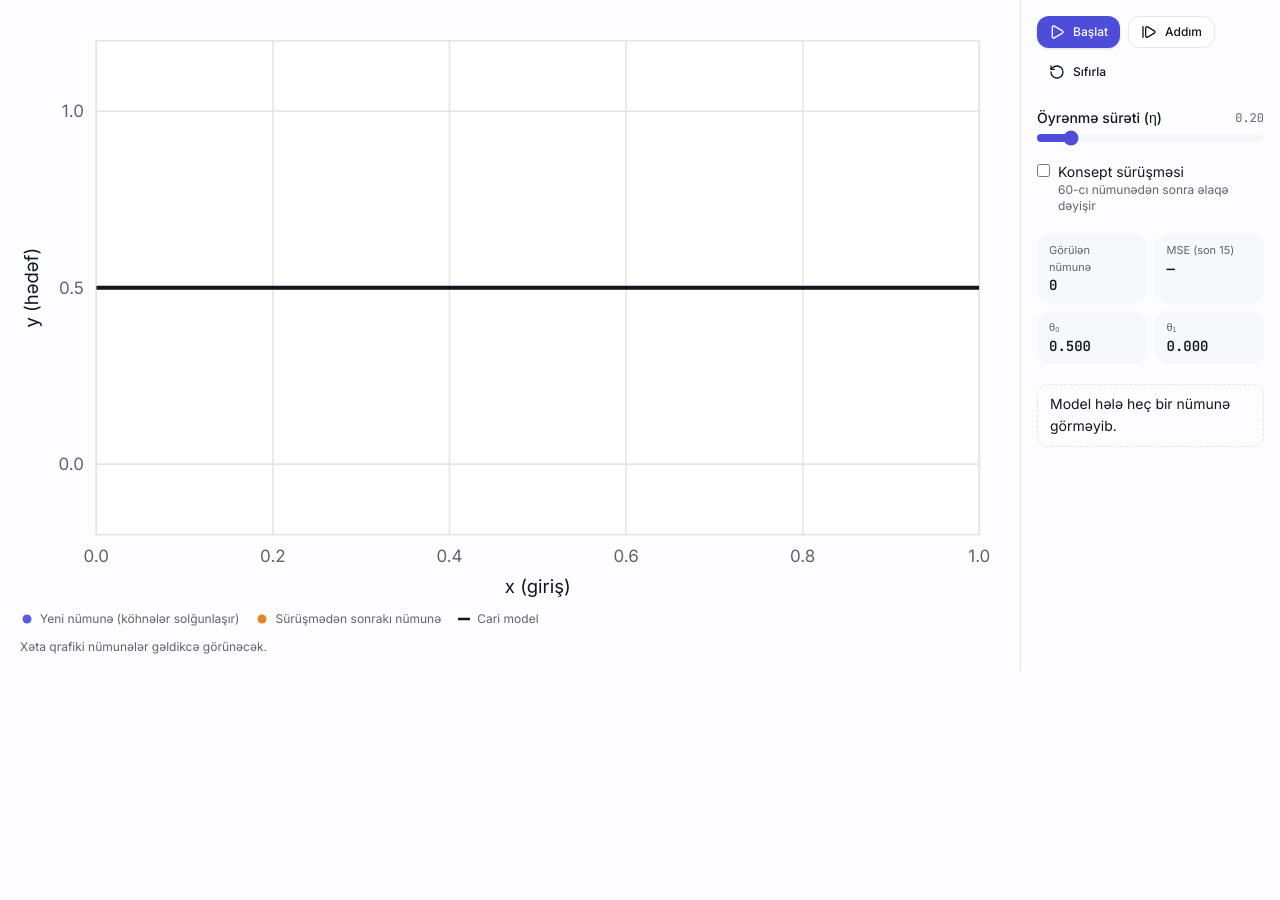
interactive demos (smoke) › online-learning: steps update the sample counter
The width and height of the screenshot is (1280, 900).
Click the button "Addım". click: (1172, 32)
box: x1=1128 y1=16 x2=1215 y2=48
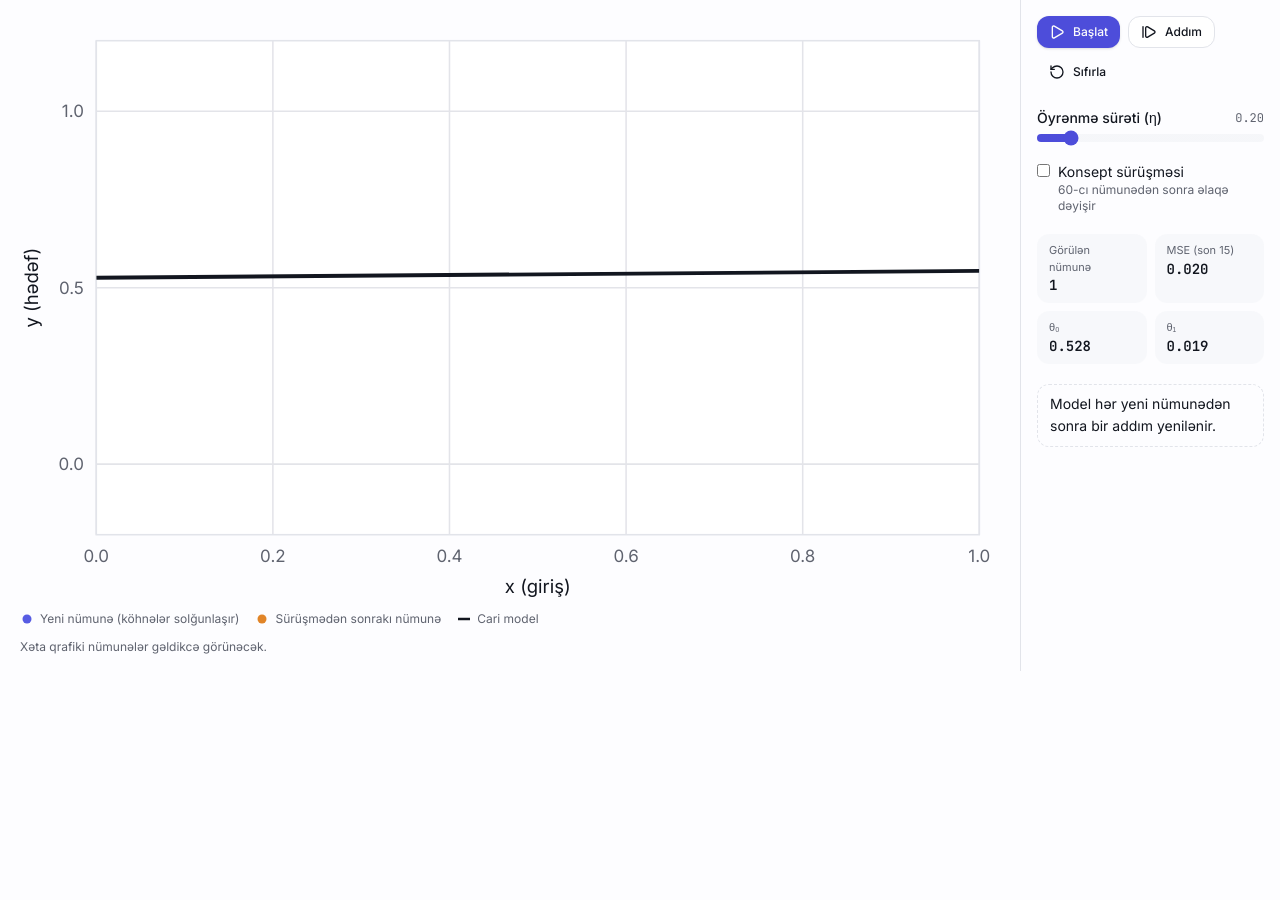
Click the button "Addım". click: (1172, 32)
box: x1=1128 y1=16 x2=1215 y2=48
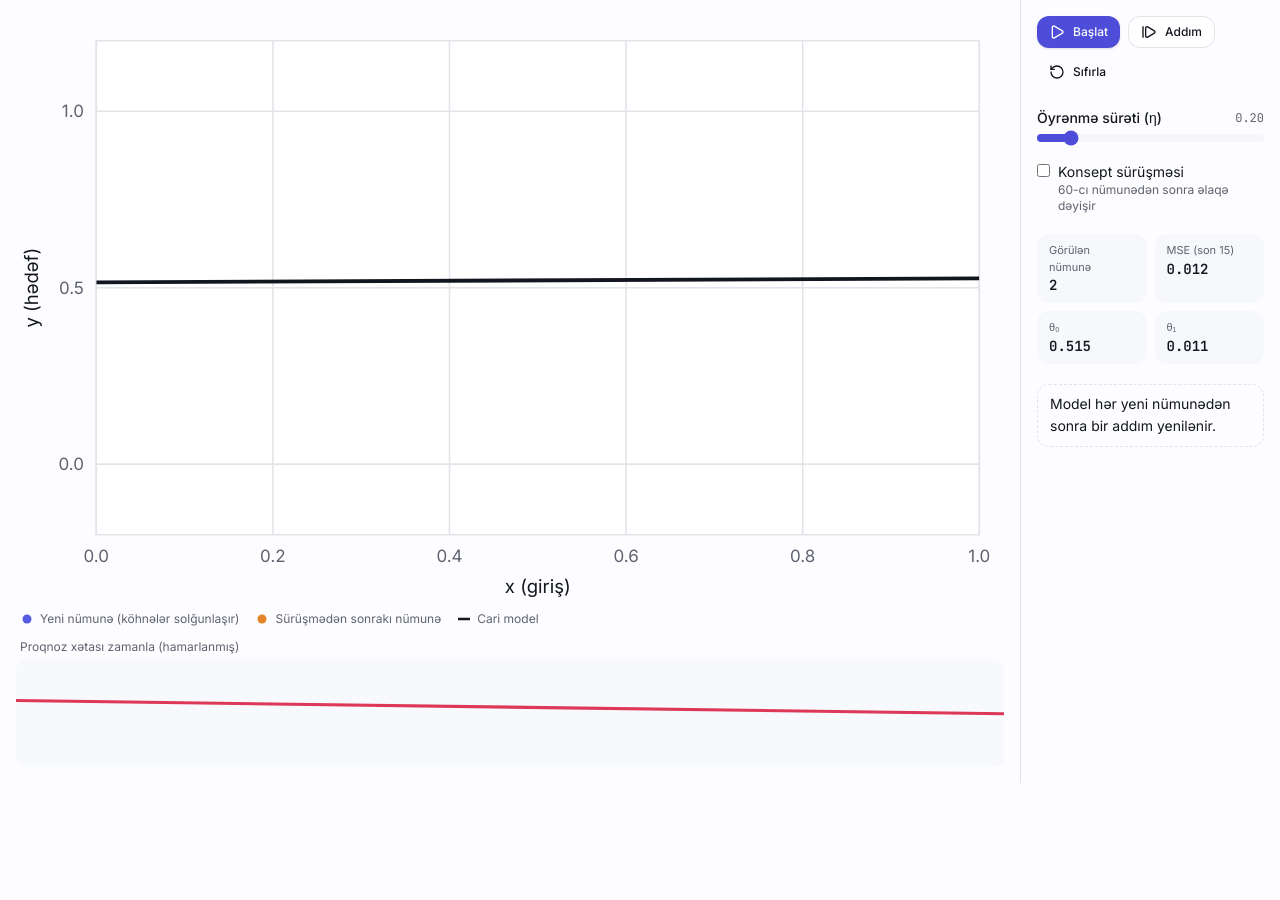
Click the button "Addım". click: (1172, 32)
box: x1=1128 y1=16 x2=1215 y2=48
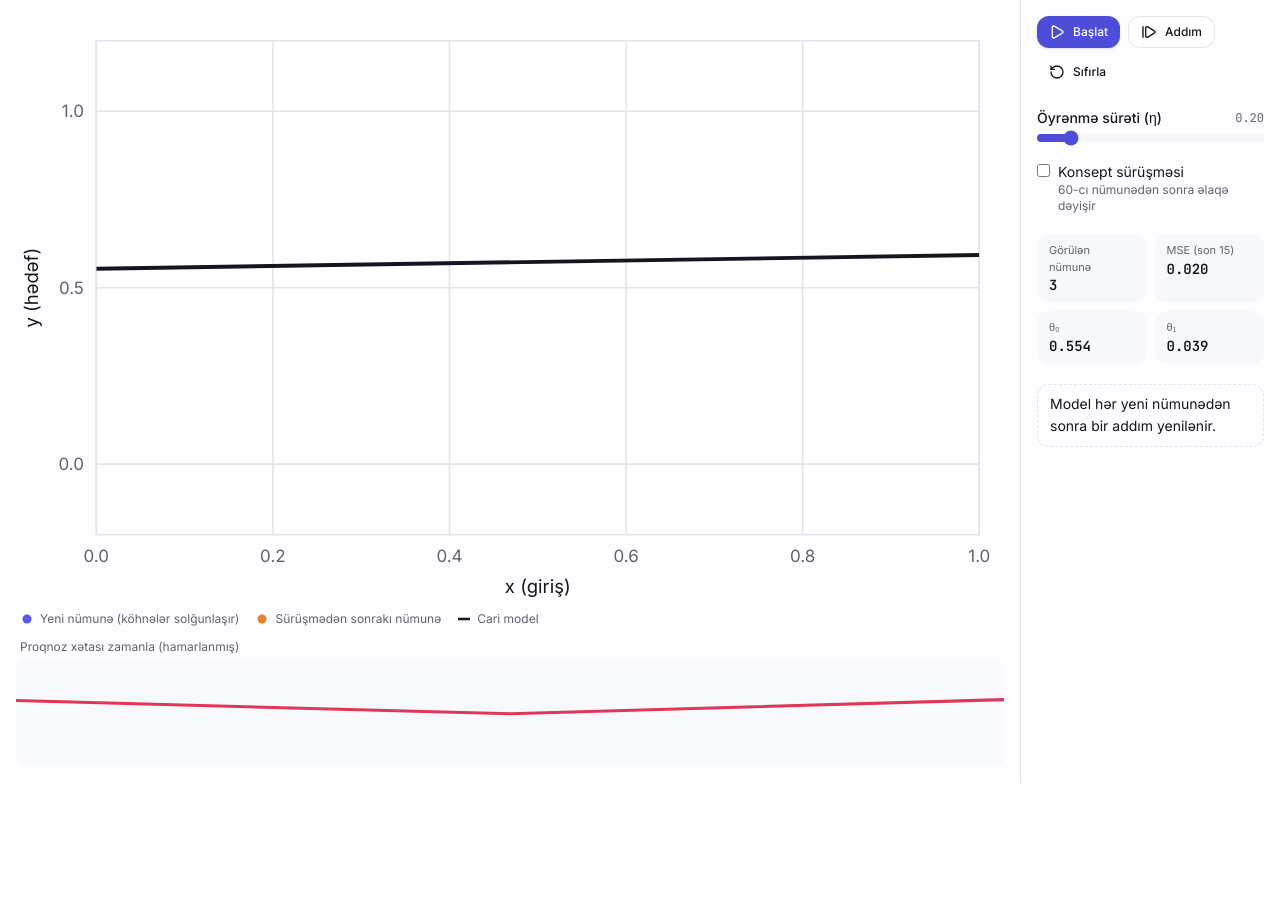
Click the button "Addım". click: (1172, 32)
box: x1=1128 y1=16 x2=1215 y2=48
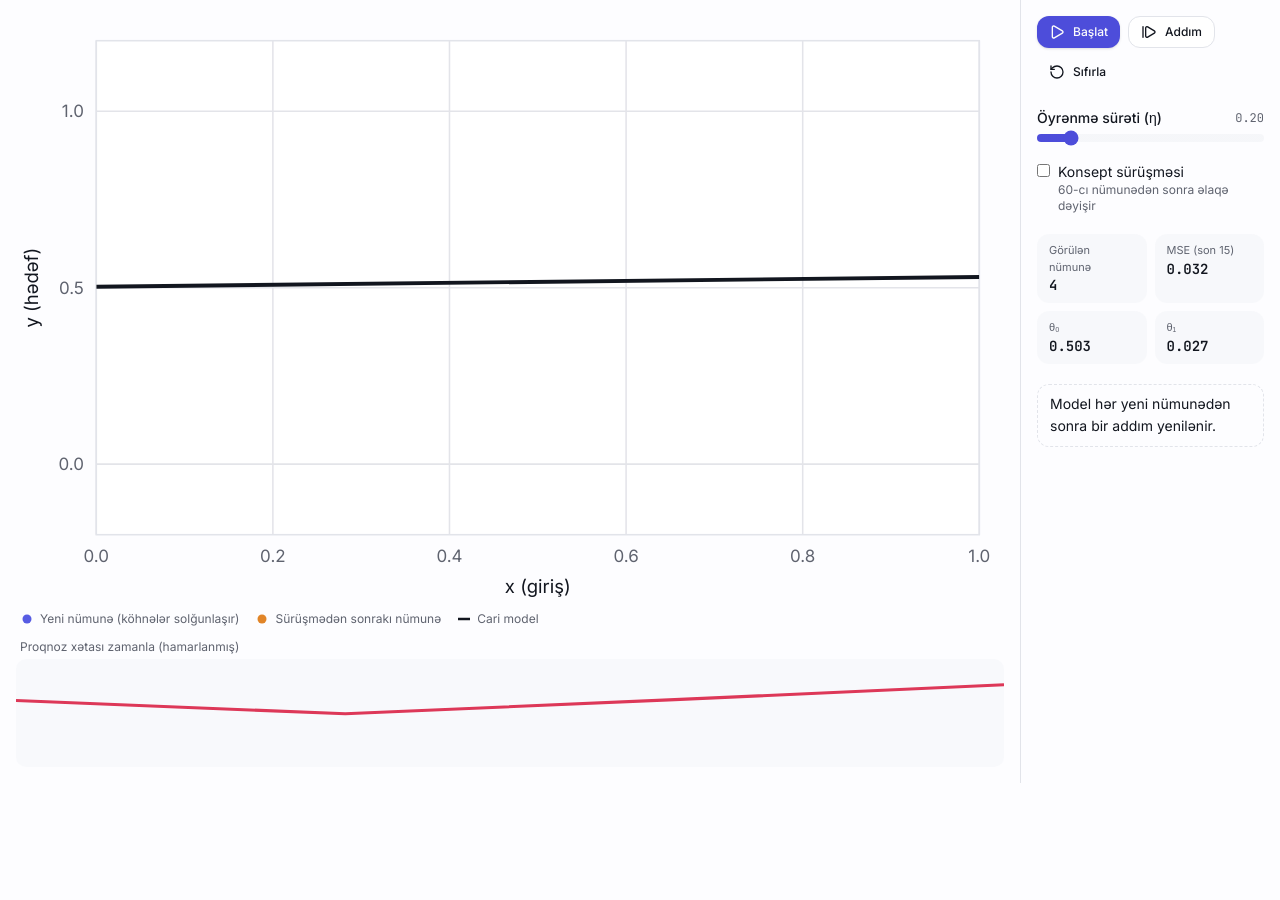
Click the button "Addım". click: (1172, 32)
box: x1=1128 y1=16 x2=1215 y2=48
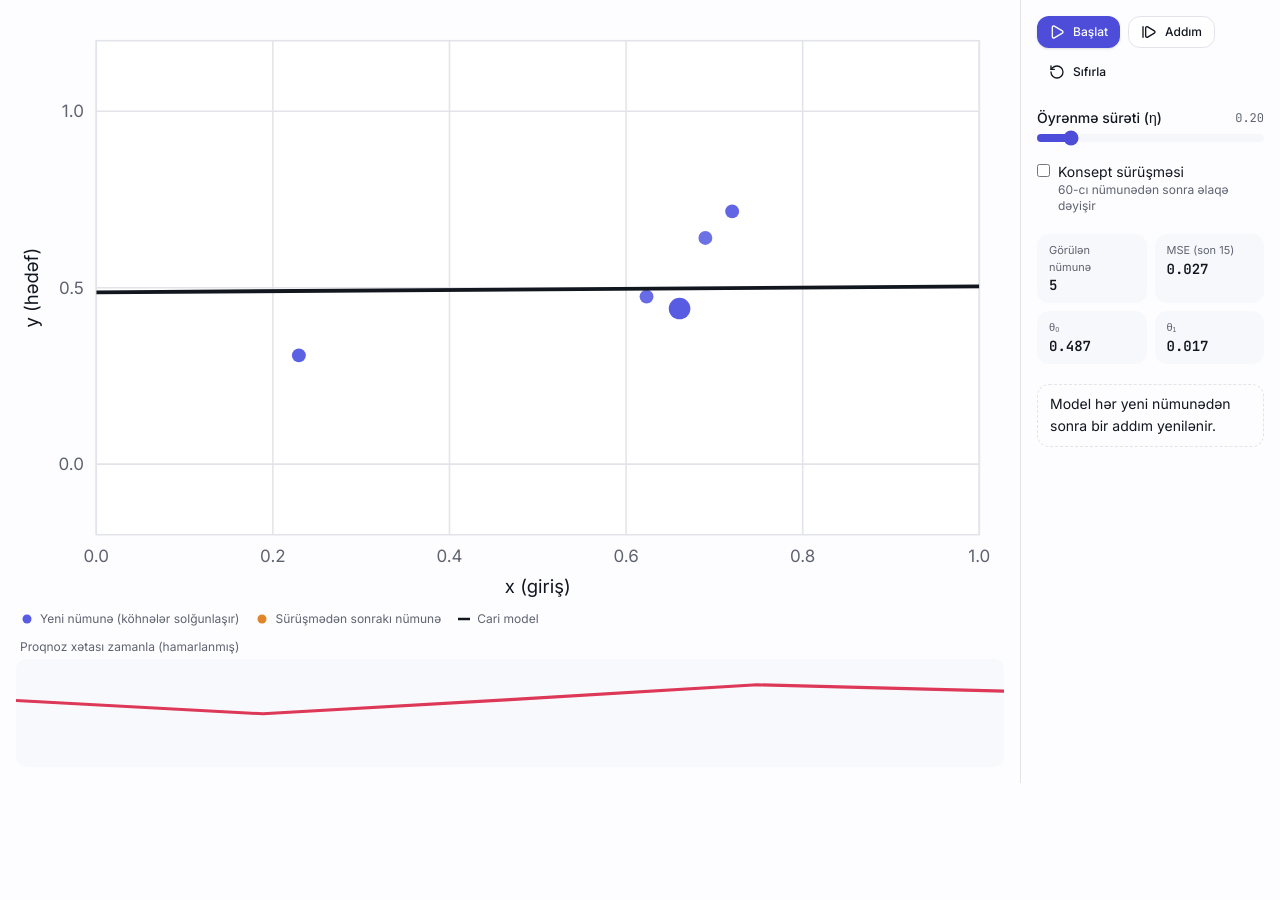
Check: the text "5" is shown, box x1=1049 y1=276 x2=1057 y2=294
